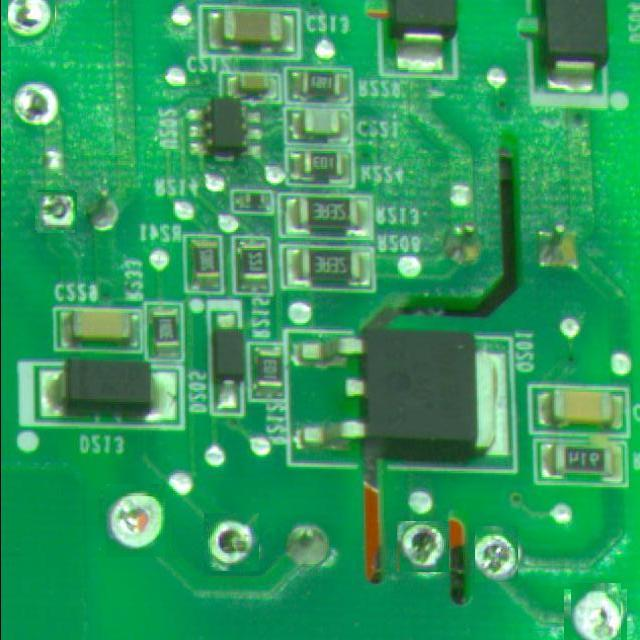lack_of_part: (102, 488, 169, 554), (203, 514, 260, 570), (567, 586, 624, 640), (13, 79, 66, 134), (396, 520, 449, 572), (476, 526, 520, 582), (8, 0, 55, 47), (36, 191, 76, 232)
